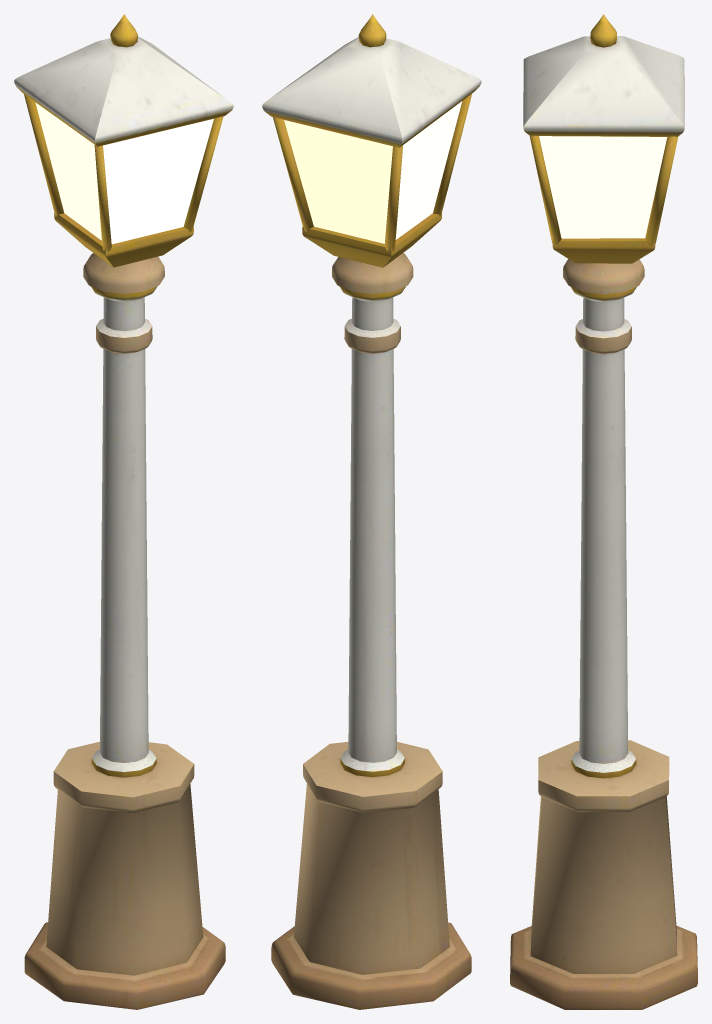
File: lamp-post.glb
3 renders of one model, left to right at view 1: azimuth 30°, elevation 25°; view 2: azimuth 150°, elevation 25°; view 3: azimuth 270°, elevation 25°, orthographic.
Visible parts, largest first — view 1: post, light; view 2: post, light; view 3: post, light.
Boxes of the visible parts, x1,y1,x2,y2 form: post: [14, 14, 233, 1009]; light: [35, 102, 213, 244]; post: [262, 14, 481, 1009]; light: [284, 101, 462, 243]; post: [510, 14, 697, 1009]; light: [539, 136, 667, 238].
Size of the model in its own units: 0.4624 by 2.6 by 0.4625.
Materials: 5 (4 with a texture image).
